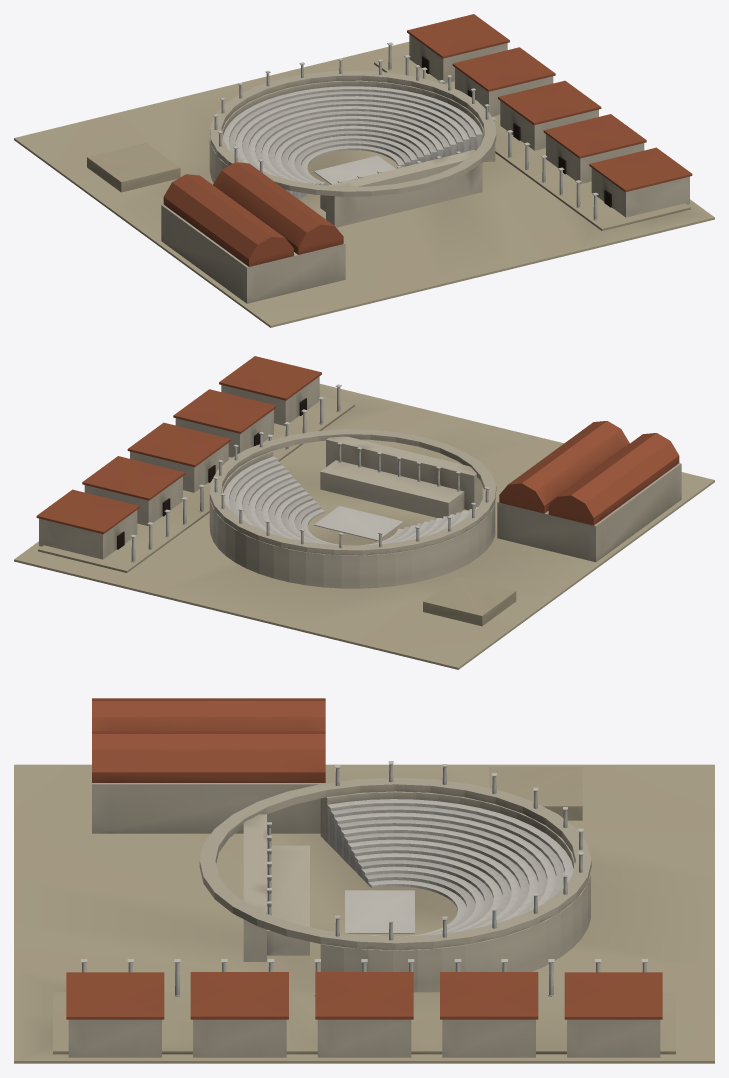
File: kom-el-dikka.glb
3 renders of one model, top to bottom at view 1: azimuth 30°, elevation 25°; view 2: azimuth 150°, elevation 25°; view 3: azimuth 270°, elevation 25°, orthographic. The views are drawn at different scales.
Visible parts, largest first — view 1: p0_theatre, p2_roof, p1_gallery; view 2: p2_roof, p0_theatre, p1_gallery; view 3: p0_theatre, p2_roof, p1_gallery.
Boxes of the visible parts, x1=… form: p0_theatre: x1=14, y1=42, x2=714, y2=327; p2_roof: x1=87, y1=14, x2=692, y2=303; p1_gallery: x1=209, y1=58, x2=495, y2=227; p2_roof: x1=36, y1=356, x2=681, y2=626; p0_theatre: x1=14, y1=384, x2=714, y2=669; p1_gallery: x1=209, y1=431, x2=495, y2=588; p0_theatre: x1=14, y1=764, x2=714, y2=1063; p2_roof: x1=53, y1=698, x2=675, y2=1057; p1_gallery: x1=243, y1=761, x2=590, y2=992.
Bounding box in the file's own units: 90 × 12.2 × 90.
